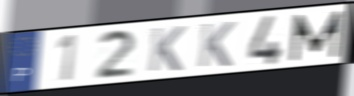1: (56, 32, 78, 83)
2: (95, 28, 138, 81)
4: (248, 13, 283, 68)
K: (146, 24, 188, 73), (196, 20, 237, 69)
M: (289, 8, 346, 63)
